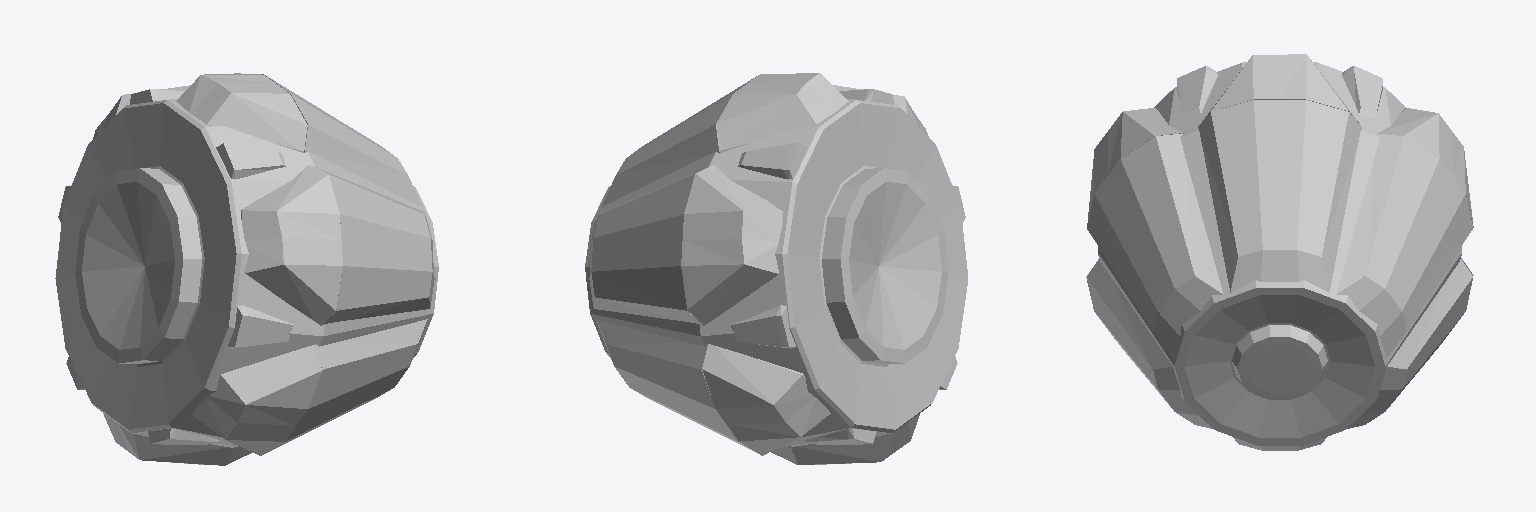
The model's file is PC_Mag.obj.
The picture shows the model from 3 angles: view 1: azimuth 30°, elevation 25°; view 2: azimuth 150°, elevation 25°; view 3: azimuth 270°, elevation 25°; orthographic projection.
Visible parts, largest first — view 1: ungrouped; view 2: ungrouped; view 3: ungrouped.
Part boxes in pixels (x1,y1,x2,y2): ungrouped: (55, 73, 438, 465); ungrouped: (585, 73, 967, 464); ungrouped: (1086, 54, 1473, 450).
Size of the model in its own units: 0.127 by 0.1493 by 0.1436.